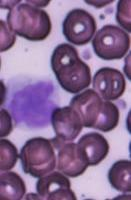M: (1, 74, 60, 130)
